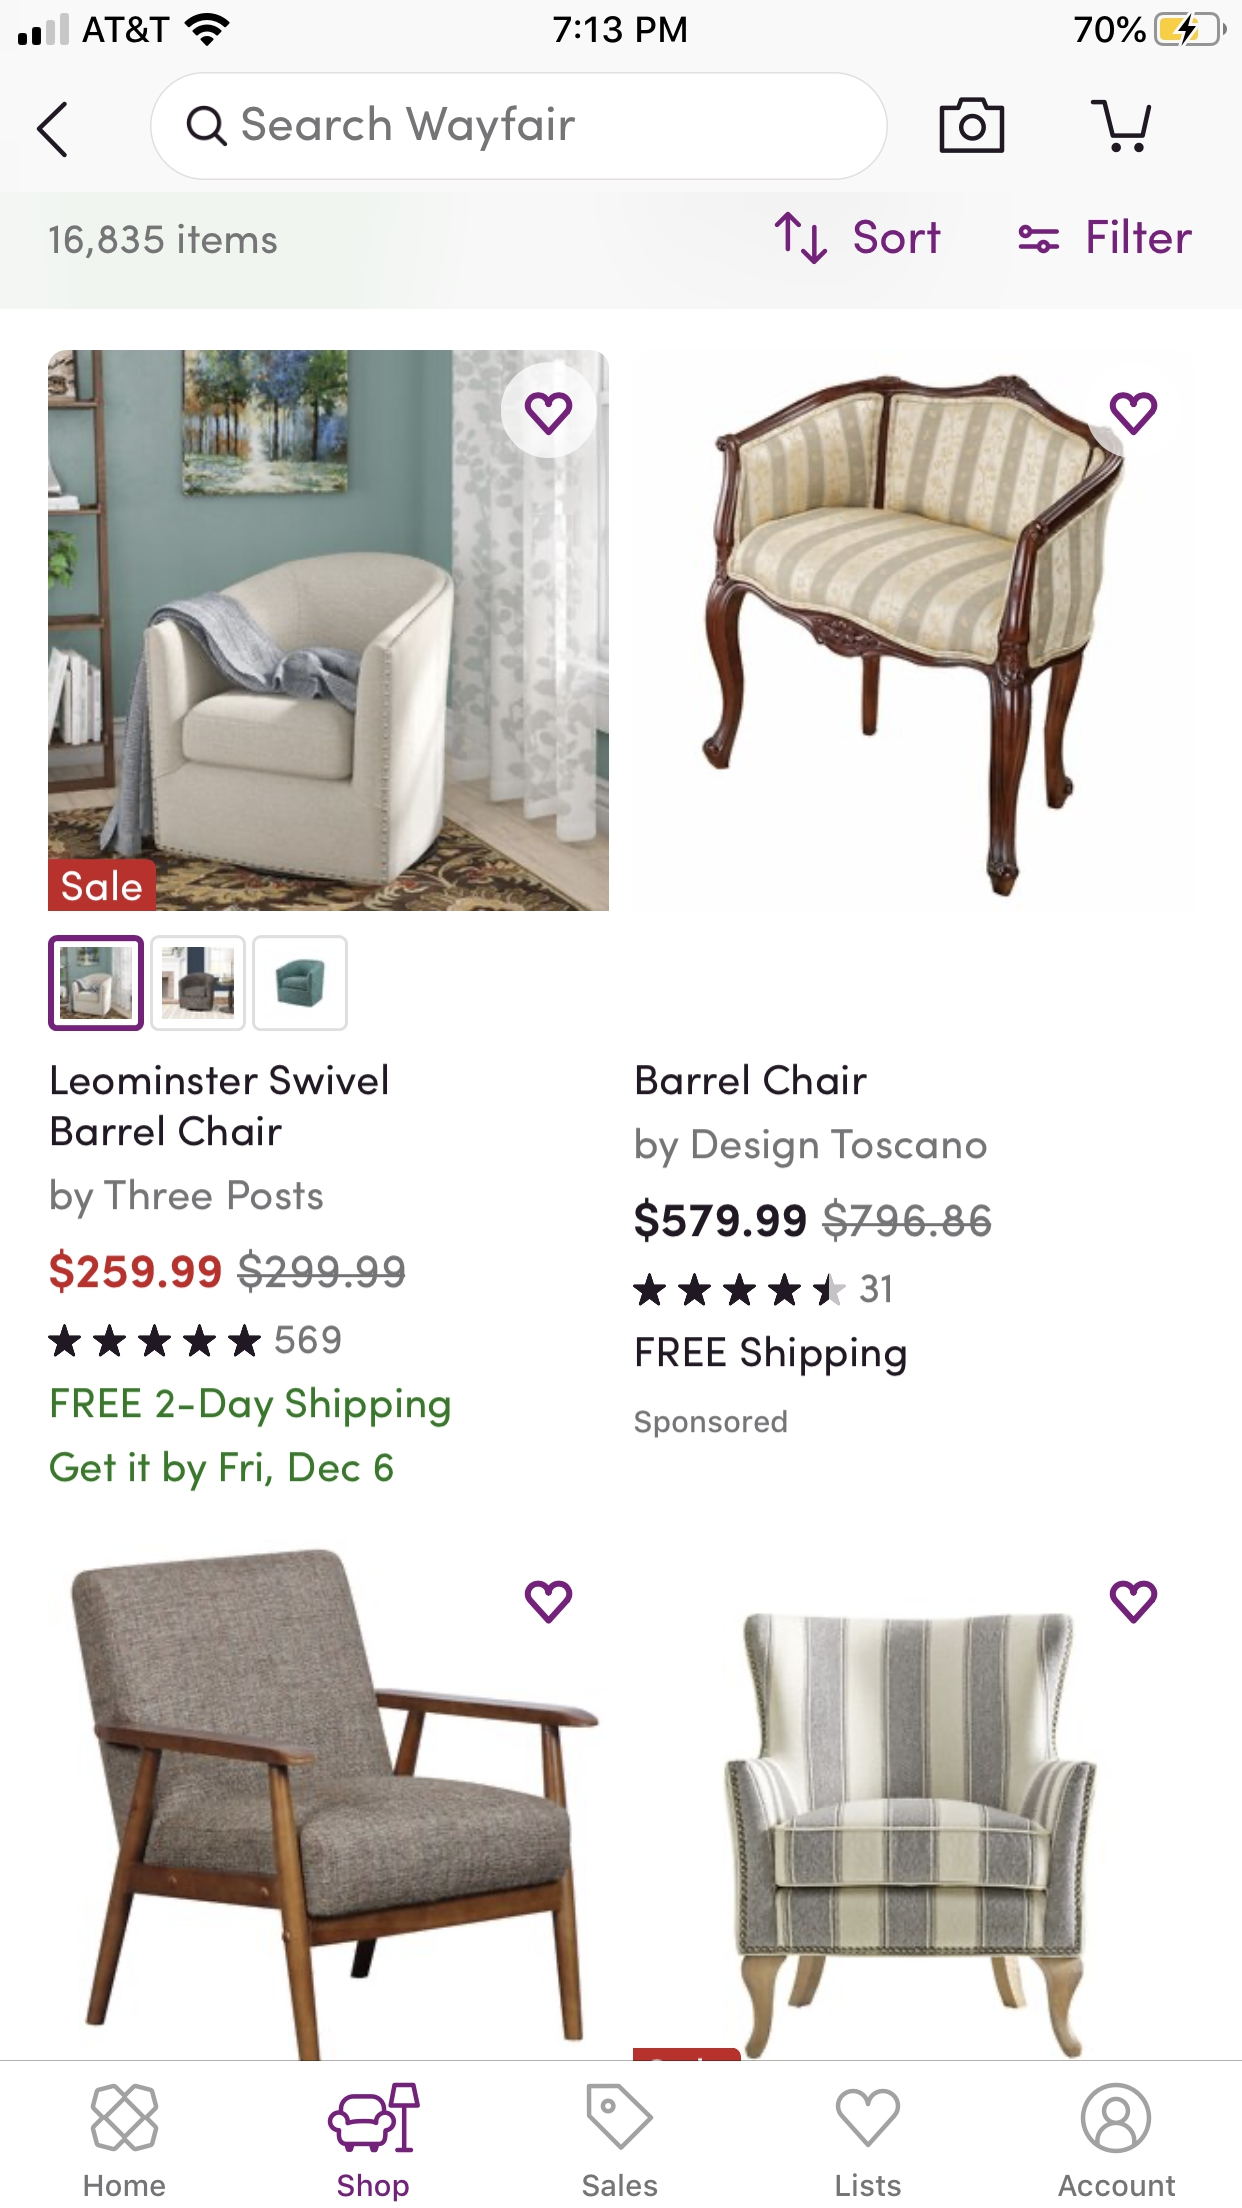EditText: (152, 71, 889, 180)
Icon: (502, 362, 597, 459), (49, 1324, 262, 1357), (634, 1274, 848, 1306), (1081, 2084, 1151, 2153), (587, 2084, 654, 2150), (939, 97, 1005, 155), (836, 2090, 899, 2147), (1090, 100, 1153, 153), (775, 212, 828, 265), (1110, 1580, 1159, 1624), (1109, 393, 1157, 437), (525, 1580, 575, 1623), (38, 103, 68, 159), (187, 108, 227, 147), (1019, 224, 1060, 255)
Image: (49, 350, 610, 911), (71, 1548, 599, 2061), (704, 375, 1125, 898), (632, 1614, 1096, 2059), (49, 936, 146, 1033), (253, 936, 349, 1033), (152, 936, 247, 1033), (328, 2084, 422, 2153), (91, 2084, 159, 2150)
Text: (53, 1388, 450, 1429), (635, 1198, 992, 1244), (243, 105, 576, 152), (52, 1250, 406, 1294), (637, 1128, 987, 1169), (50, 1451, 394, 1491), (52, 1178, 325, 1219), (52, 1065, 388, 1096), (637, 1336, 905, 1375), (52, 224, 278, 259), (637, 1063, 867, 1095), (52, 1115, 282, 1146), (635, 1410, 787, 1438), (1087, 218, 1192, 255), (854, 221, 942, 255), (1059, 2175, 1175, 2196), (340, 2175, 409, 2202), (276, 1325, 341, 1354), (582, 2175, 658, 2197), (85, 2175, 165, 2196), (837, 2173, 902, 2197), (861, 1275, 892, 1303)
UpperTaskBar: (2, 2, 1242, 49)
